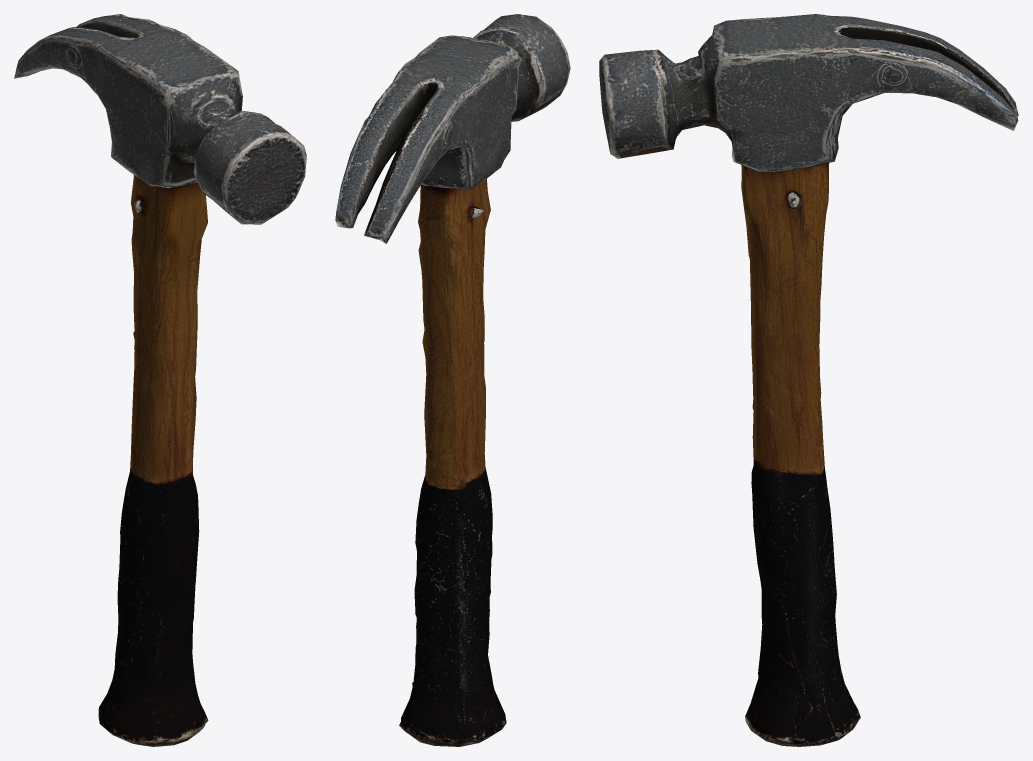
Rendered from hammer.glb.
3 views of the same model, side by side, from view 1: azimuth 30°, elevation 25°; view 2: azimuth 150°, elevation 25°; view 3: azimuth 270°, elevation 25° (orthographic). The views are drawn at different scales.
Parts seen in each view (by area): view 1: hammer; view 2: hammer; view 3: hammer.
Part boxes in pixels (x1=…): hammer: x1=14, y1=14, x2=306, y2=746; hammer: x1=335, y1=14, x2=570, y2=746; hammer: x1=599, y1=14, x2=1018, y2=746.
Size of the model in its own units: 0.0553 by 0.33 by 0.1784.
1 material, 1 textured.
